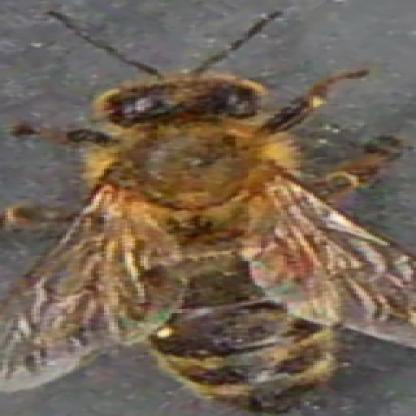bee: (73, 69, 360, 406)
